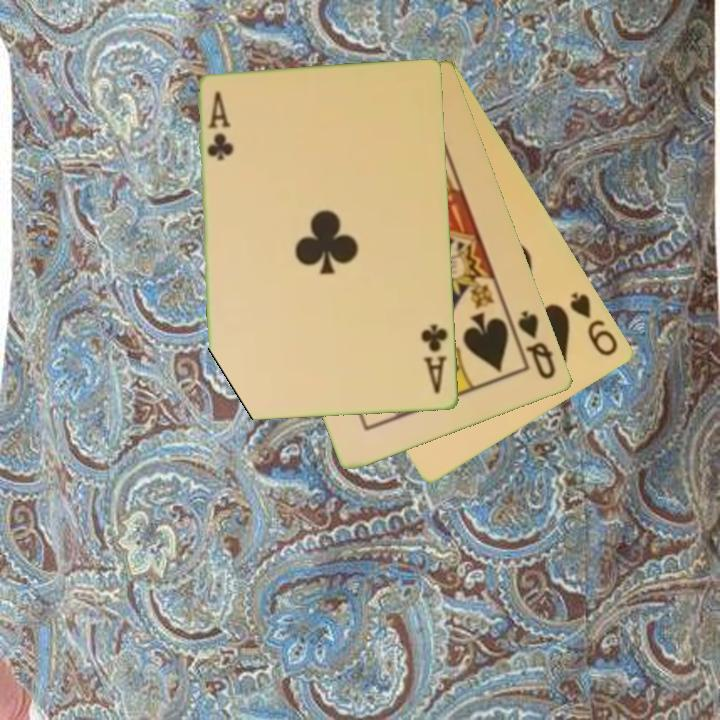9s: (567, 288, 622, 360)
Ac: (418, 321, 451, 397), (204, 88, 236, 164)
Qs: (514, 307, 559, 383)
